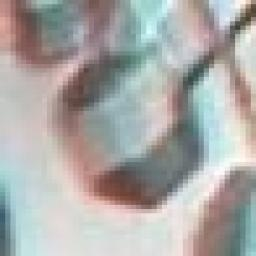crystals: (46, 45, 212, 215)
